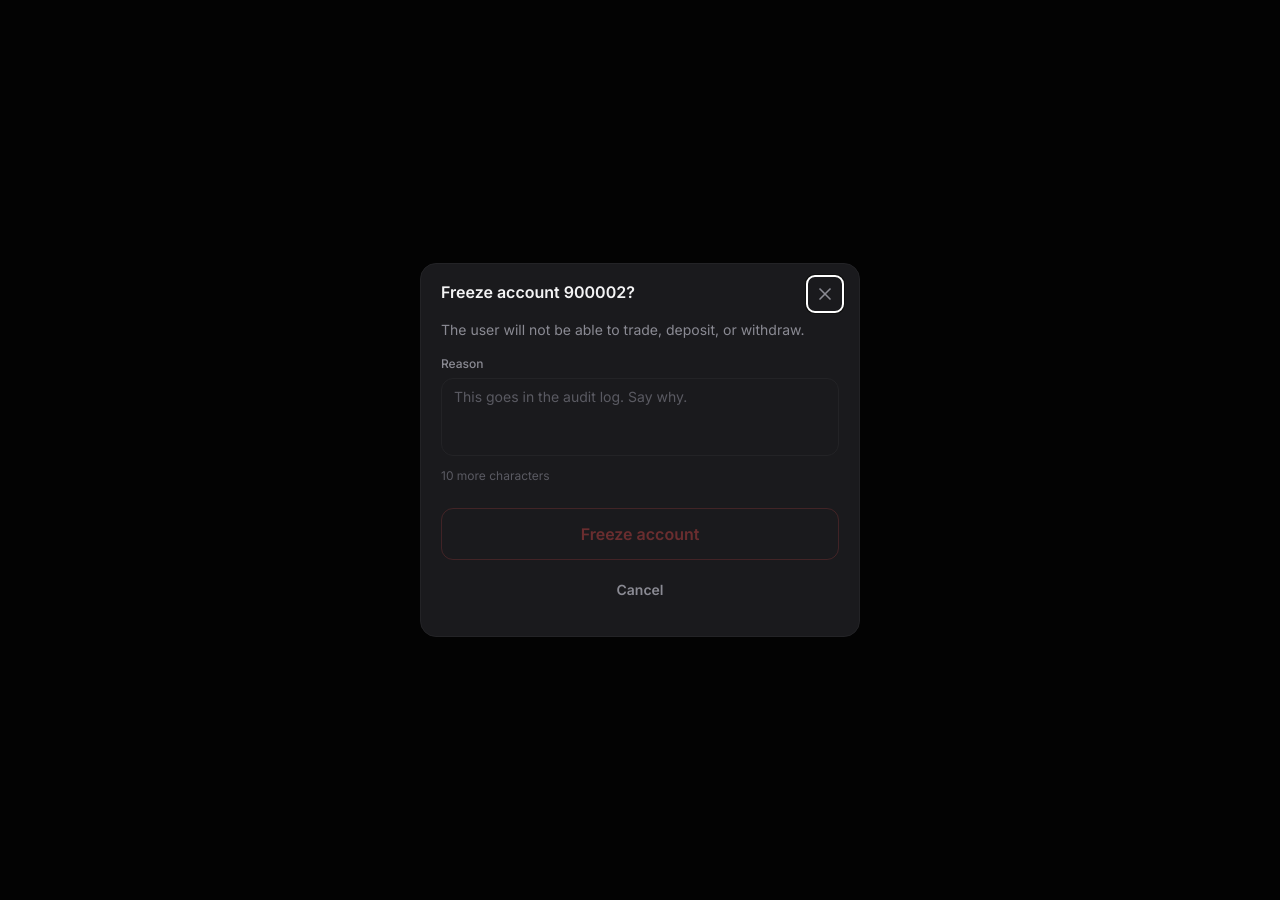
Test case: ReasonDialog › counts down the characters still needed
This screenshot has width=1280, height=900.
In the text box labelled "Reason": (640, 417) [441,378,839,456], type "abc"
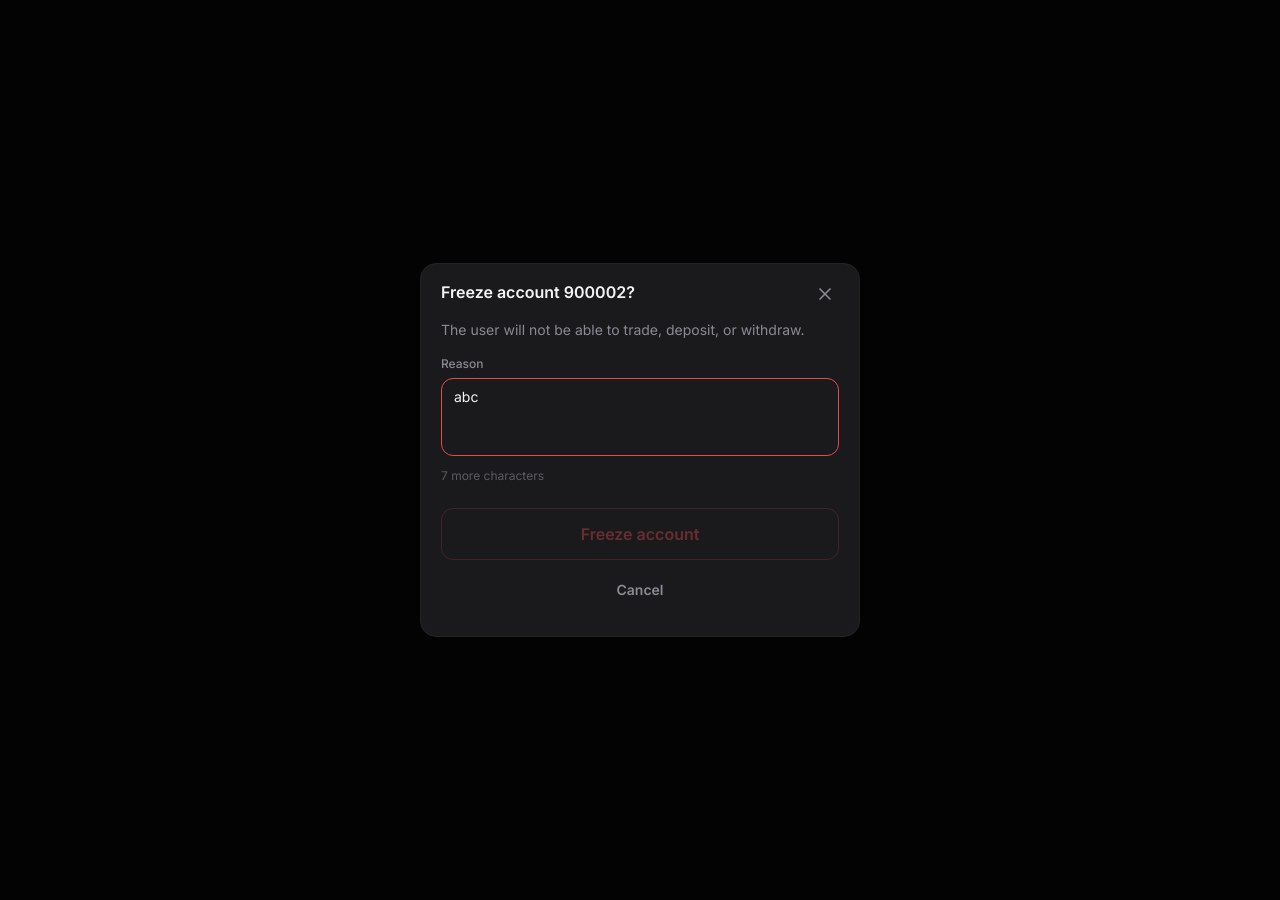
Now the text "7 more characters" is shown, box [441,468,544,483]
